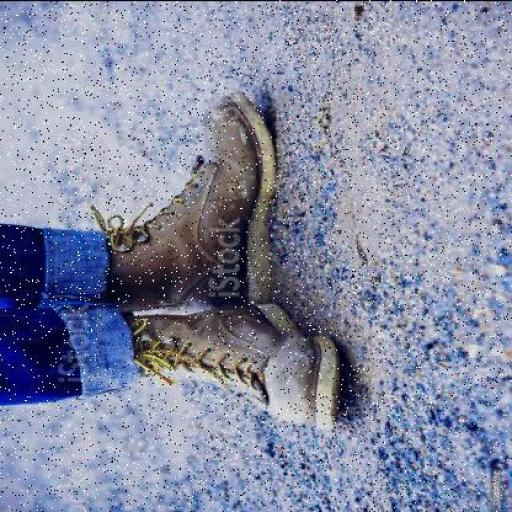safety_shoe: (96, 92, 278, 315), (130, 312, 332, 424)
